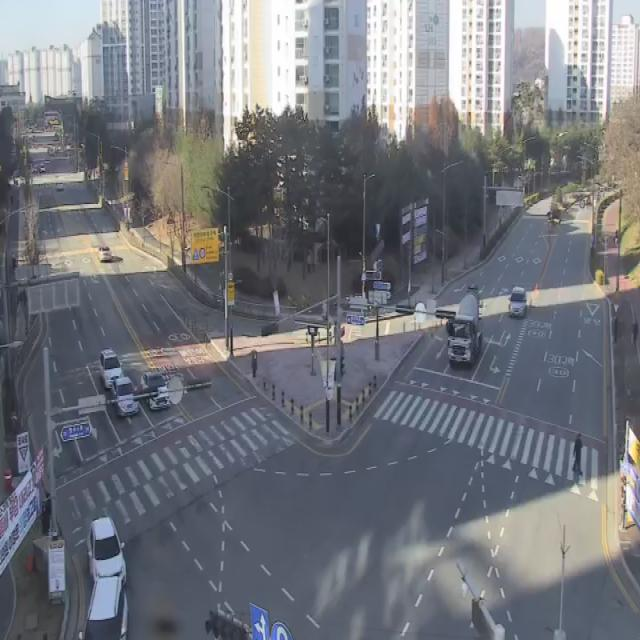Car: (79, 576, 129, 640), (88, 516, 128, 589), (142, 371, 171, 411), (113, 376, 140, 416), (100, 347, 124, 391), (508, 287, 528, 318), (98, 244, 112, 262)
Truck: (446, 286, 484, 368)
